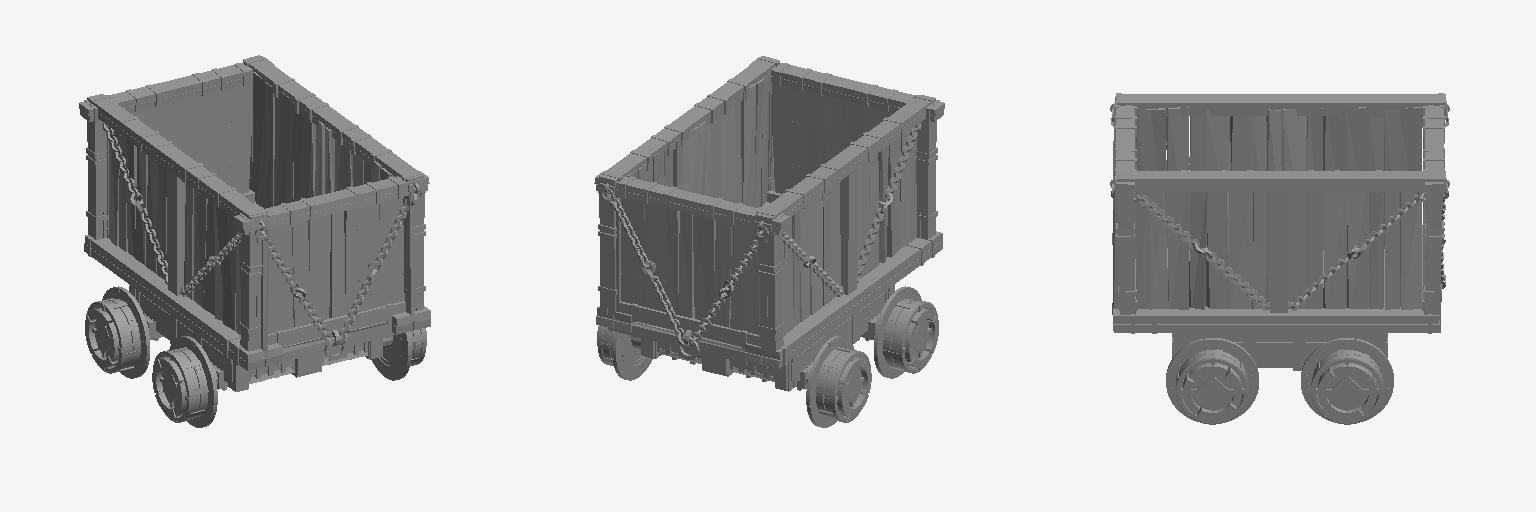
The model's file is LOD1_mine_wagon.obj.
The picture shows the model from 3 angles: view 1: azimuth 30°, elevation 25°; view 2: azimuth 150°, elevation 25°; view 3: azimuth 270°, elevation 25°; orthographic projection.
Visible parts, largest first — view 1: part13.035_Cube.055, part13.036_Cube.057, part2.011_Cylinder.010, part17.006_Cube.149, part17.009_Cube.150, part15.006_Cube.001, part12.006_Cube.152, part13.014_Cube.119, part15.001_Cube.154, part12.007_Cube.155, part12.005_Cube.000, part12.003_Cube.151; view 2: part13.035_Cube.055, part13.036_Cube.057, part2.011_Cylinder.010, part17.006_Cube.149, part12.006_Cube.152, part17.009_Cube.150, part15.006_Cube.001, part13.014_Cube.119, part15.001_Cube.154, part12.007_Cube.155, part12.003_Cube.151, part12.005_Cube.000; view 3: part13.035_Cube.055, part2.011_Cylinder.010, part17.006_Cube.149, part15.006_Cube.001, part12.006_Cube.152, part13.014_Cube.119, part17.009_Cube.150, part12.005_Cube.000, part12.003_Cube.151.
Boxes of the visible parts, box(x1,y1,x2,y2) form: part13.035_Cube.055: box(107, 72, 413, 357); part13.036_Cube.057: box(130, 83, 404, 333); part2.011_Cylinder.010: box(85, 286, 426, 427); part17.006_Cube.149: box(87, 55, 423, 225); part17.009_Cube.150: box(79, 58, 429, 234); part15.006_Cube.001: box(84, 202, 430, 370); part12.006_Cube.152: box(86, 120, 425, 351); part13.014_Cube.119: box(129, 285, 382, 391); part15.001_Cube.154: box(107, 189, 413, 364); part12.007_Cube.155: box(260, 194, 416, 346); part12.005_Cube.000: box(102, 123, 241, 296); part12.003_Cube.151: box(168, 170, 185, 295); part13.035_Cube.055: box(614, 71, 916, 355); part13.036_Cube.057: box(621, 83, 893, 334); part2.011_Cylinder.010: box(597, 286, 938, 427); part17.006_Cube.149: box(598, 56, 935, 231); part12.006_Cube.152: box(598, 120, 937, 356); part17.009_Cube.150: box(594, 58, 944, 234); part15.006_Cube.001: box(596, 202, 942, 368); part13.014_Cube.119: box(641, 285, 894, 391); part15.001_Cube.154: box(608, 189, 916, 368); part12.007_Cube.155: box(607, 194, 763, 346); part12.003_Cube.151: box(840, 169, 857, 294); part12.005_Cube.000: box(782, 123, 921, 296); part13.035_Cube.055: box(1112, 106, 1425, 314); part2.011_Cylinder.010: box(1166, 338, 1393, 424); part17.006_Cube.149: box(1117, 94, 1446, 192); part15.006_Cube.001: box(1113, 246, 1440, 333); part12.006_Cube.152: box(1116, 192, 1443, 319); part13.014_Cube.119: box(1172, 258, 1387, 370); part17.009_Cube.150: box(1115, 93, 1444, 196); part12.005_Cube.000: box(1134, 141, 1425, 310); part12.003_Cube.151: box(1269, 116, 1287, 312).
Bounding box in the file's own units: 13.96 × 13.05 × 16.75.